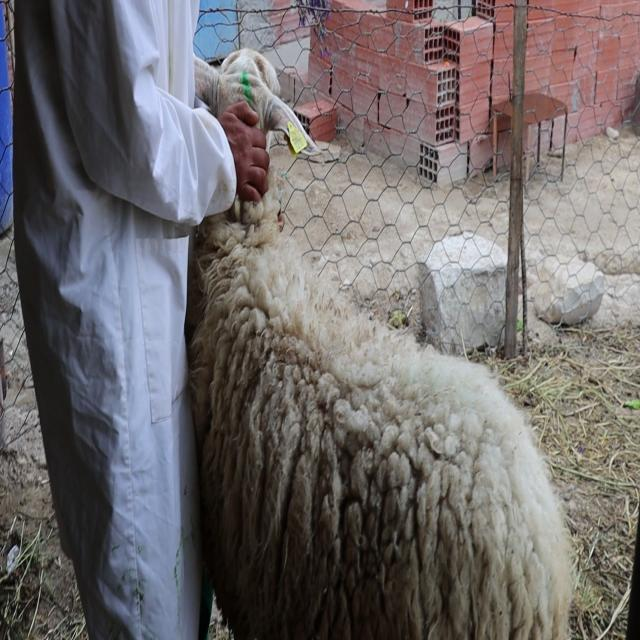Score_3: (187, 174, 574, 639)
